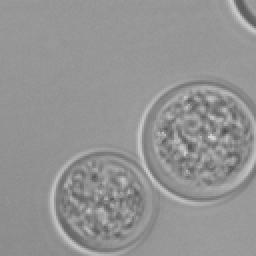picoshell: (136, 80, 254, 204), (50, 148, 156, 254), (234, 0, 254, 26)
